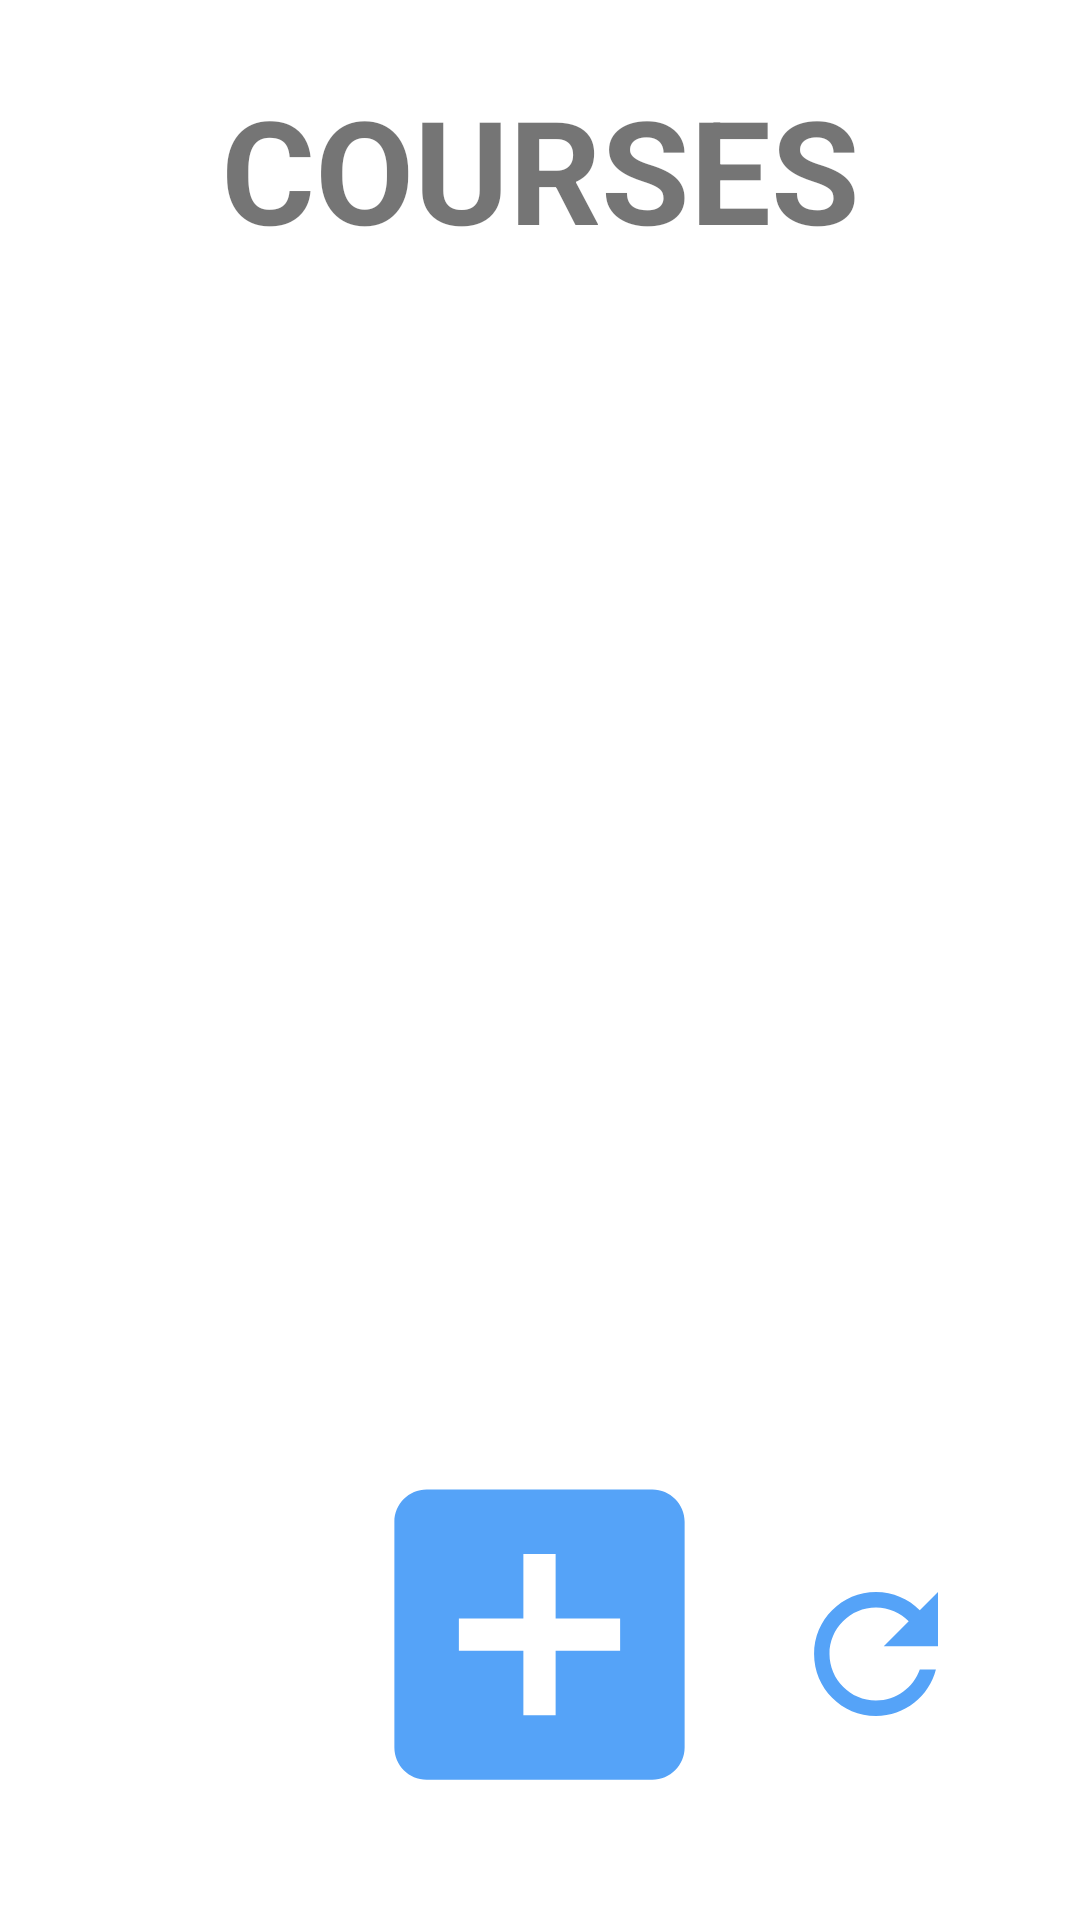

Locate icon controls on the screen. Image size 1080 x 1920, boxes as (x1, y1, x2, y2).
add box: (394, 1489, 685, 1780)
refresh: (814, 1592, 938, 1716)
